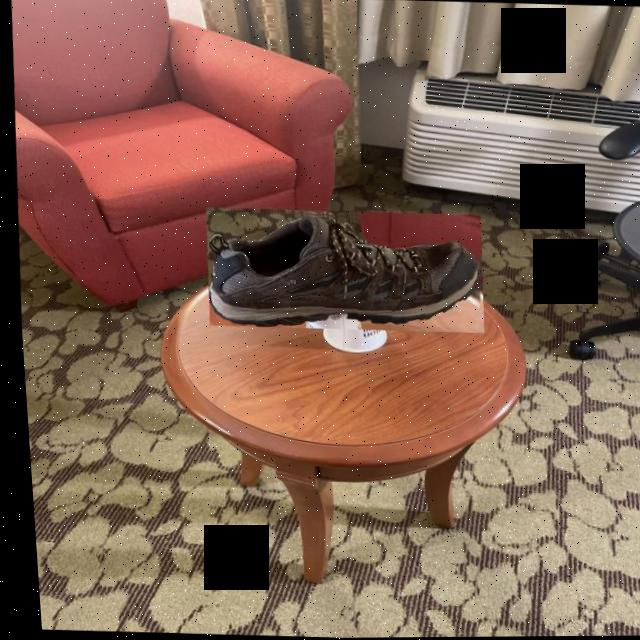shoe: (198, 206, 483, 334)
